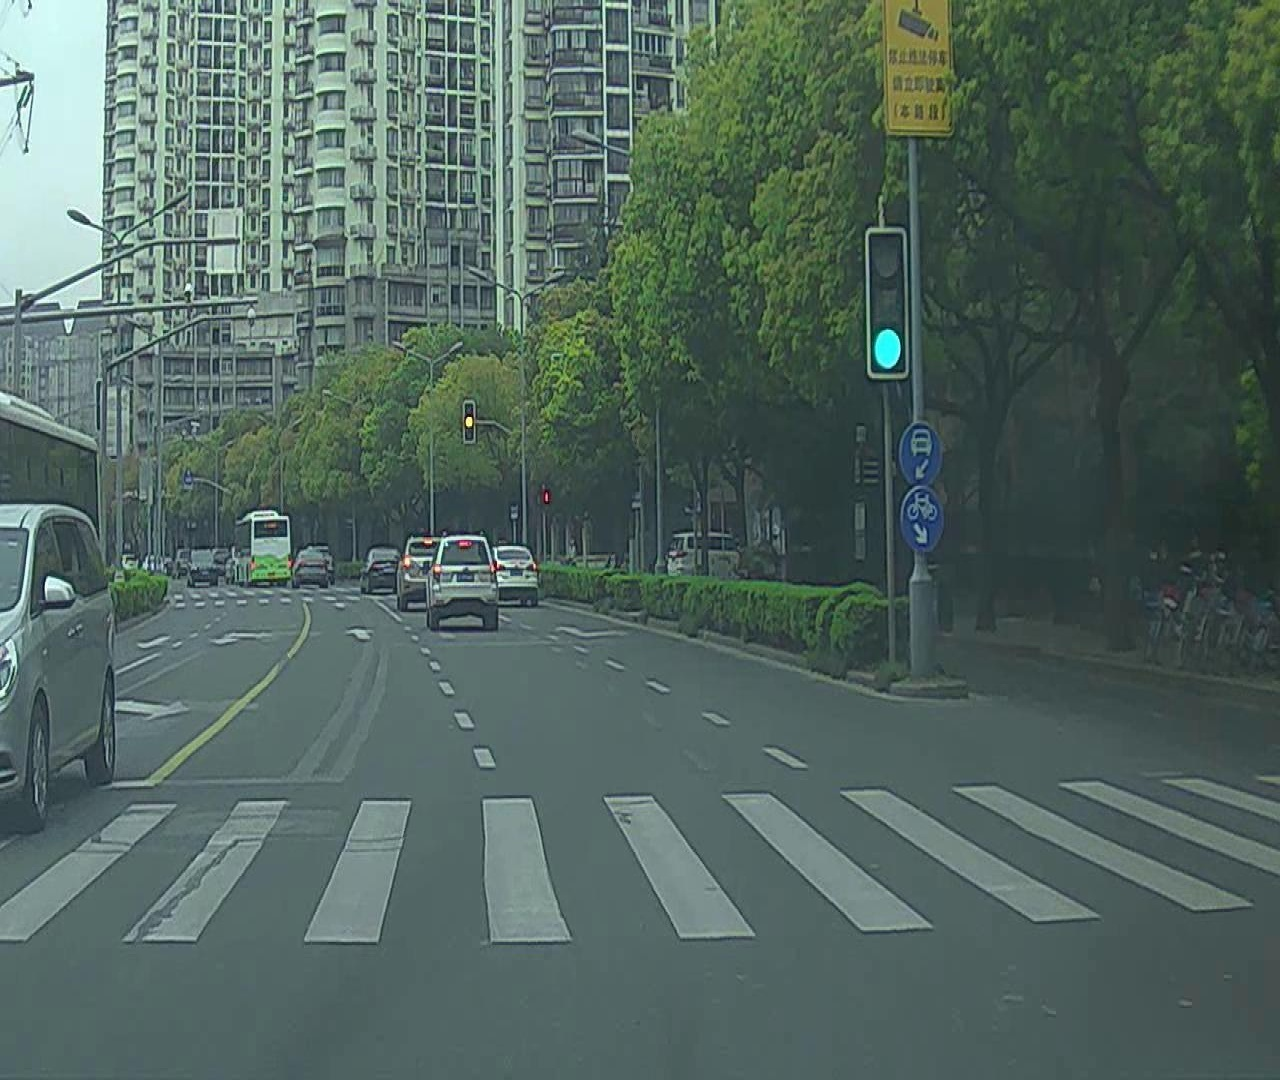green: (865, 235, 912, 378)
yellow: (463, 396, 478, 439)
